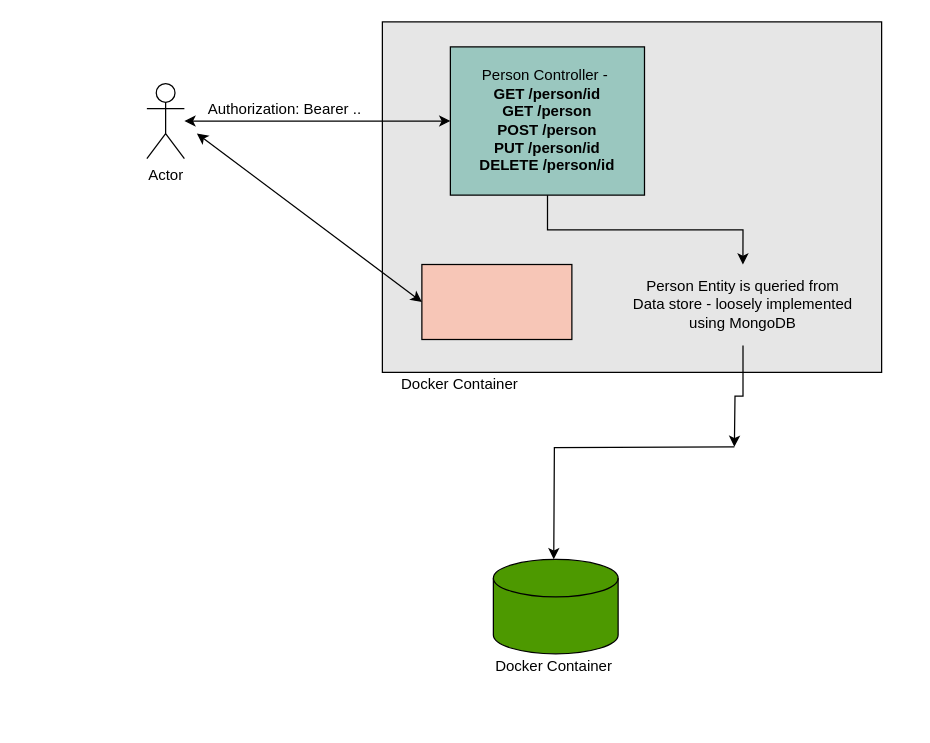
Some shapes in this 930 by 743 pixel diagram are drawn without their labels. The shapes that lost their labels are listed below. From the top down, each one's centre as x and y in pixels, then its label:
point 496,301: AccessToken Controller - /token
point 555,606: MongoDB store
